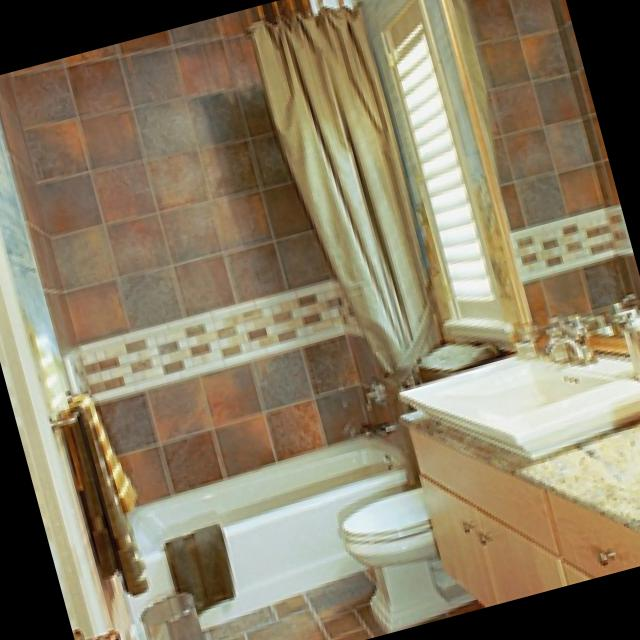2001: (369, 0, 515, 322)
2009: (385, 0, 508, 316)
basket crop: (411, 350, 499, 380)
bath occluded: (352, 409, 391, 441)
bathtub: (130, 426, 417, 640)
bottle crop: (611, 296, 640, 371)
cabinet door: (410, 425, 640, 604)
counter bottom: (400, 404, 640, 526)
door mat: (75, 622, 128, 640)
mirror crop: (451, 0, 640, 332)
shower door handle: (246, 0, 446, 408)
sink basin: (403, 337, 640, 456)
sink occluded: (545, 308, 593, 356)
toilet bowl: (342, 482, 479, 630)
towel basket: (166, 518, 235, 610), (430, 340, 479, 363)
towel ring: (51, 383, 98, 428)
towels: (59, 388, 148, 592)
trash compactor: (142, 589, 208, 640)
